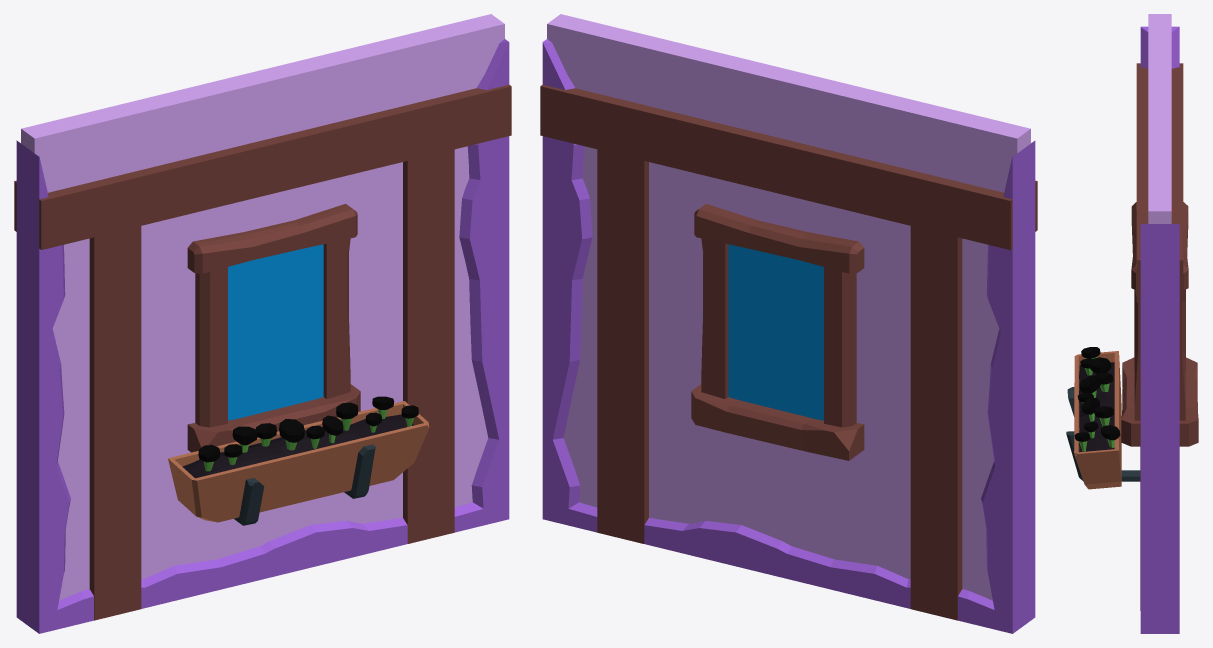
File: Modular Wall 02 MK2 W3.fbx
3 renders of one model, left to right at view 1: azimuth 30°, elevation 25°; view 2: azimuth 150°, elevation 25°; view 3: azimuth 270°, elevation 25°, orthographic. The views are drawn at different scales.
Parts seen in each view (by area): view 1: Modular Wall 02 MK2 W3; view 2: Modular Wall 02 MK2 W3; view 3: Modular Wall 02 MK2 W3.
Boxes of the visible parts, x1,y1,x2,y2 form: Modular Wall 02 MK2 W3: [14, 14, 511, 633]; Modular Wall 02 MK2 W3: [540, 14, 1037, 633]; Modular Wall 02 MK2 W3: [1066, 14, 1198, 633].
Size of the model in its own units: 400 by 400 by 113.
